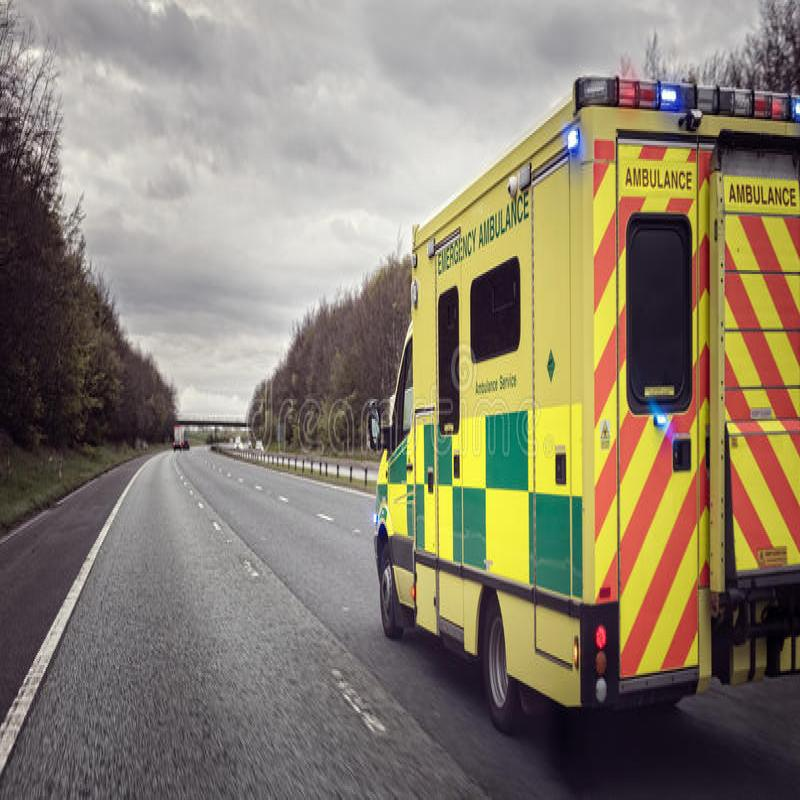ambulance: (390, 137, 790, 733)
